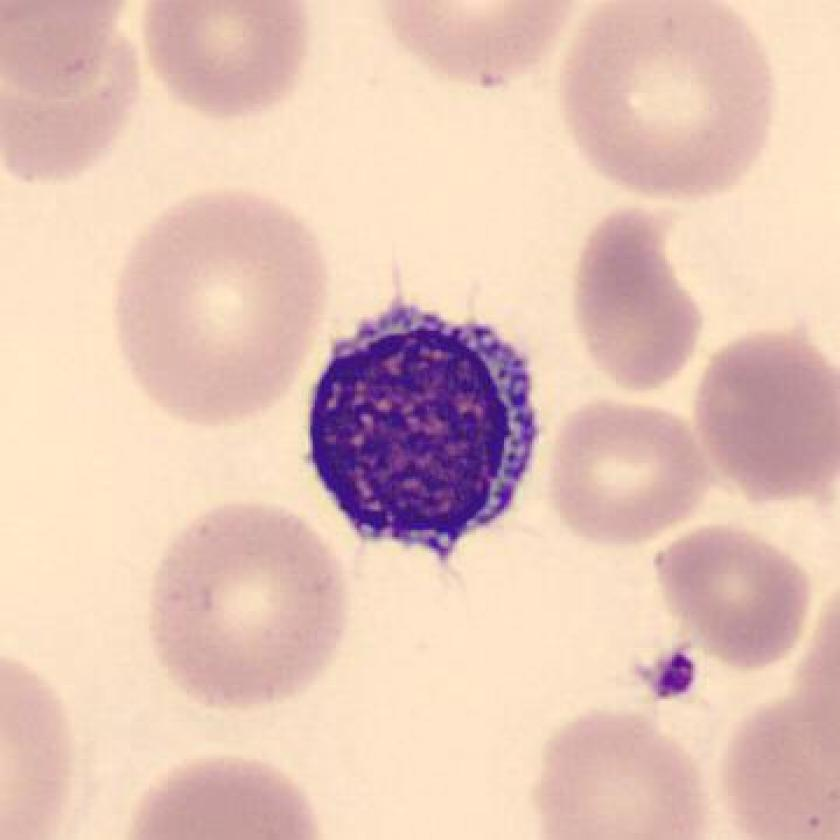lymphocyte: (286, 286, 556, 575)
